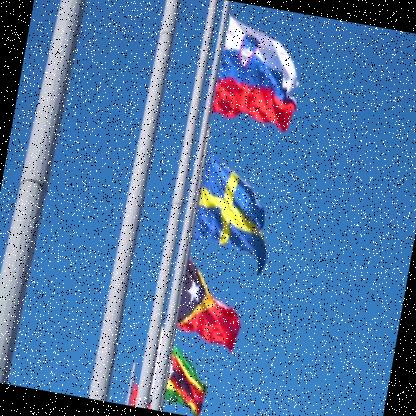si: (209, 12, 312, 135)
